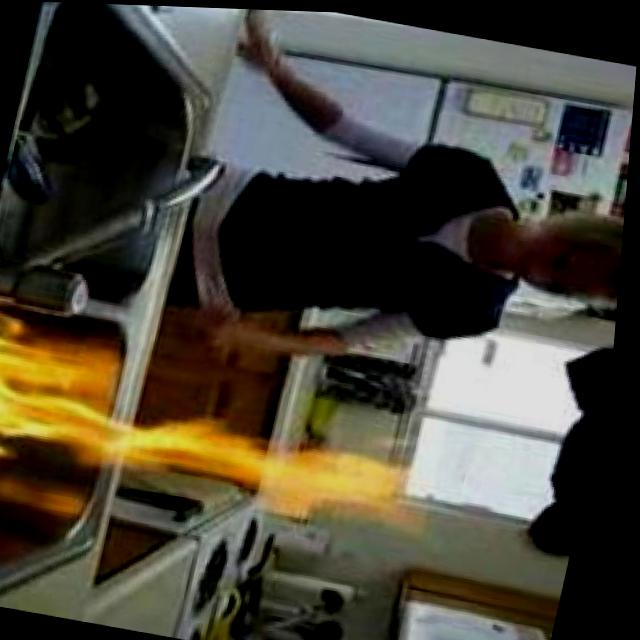Fire: (0, 313, 433, 532)
